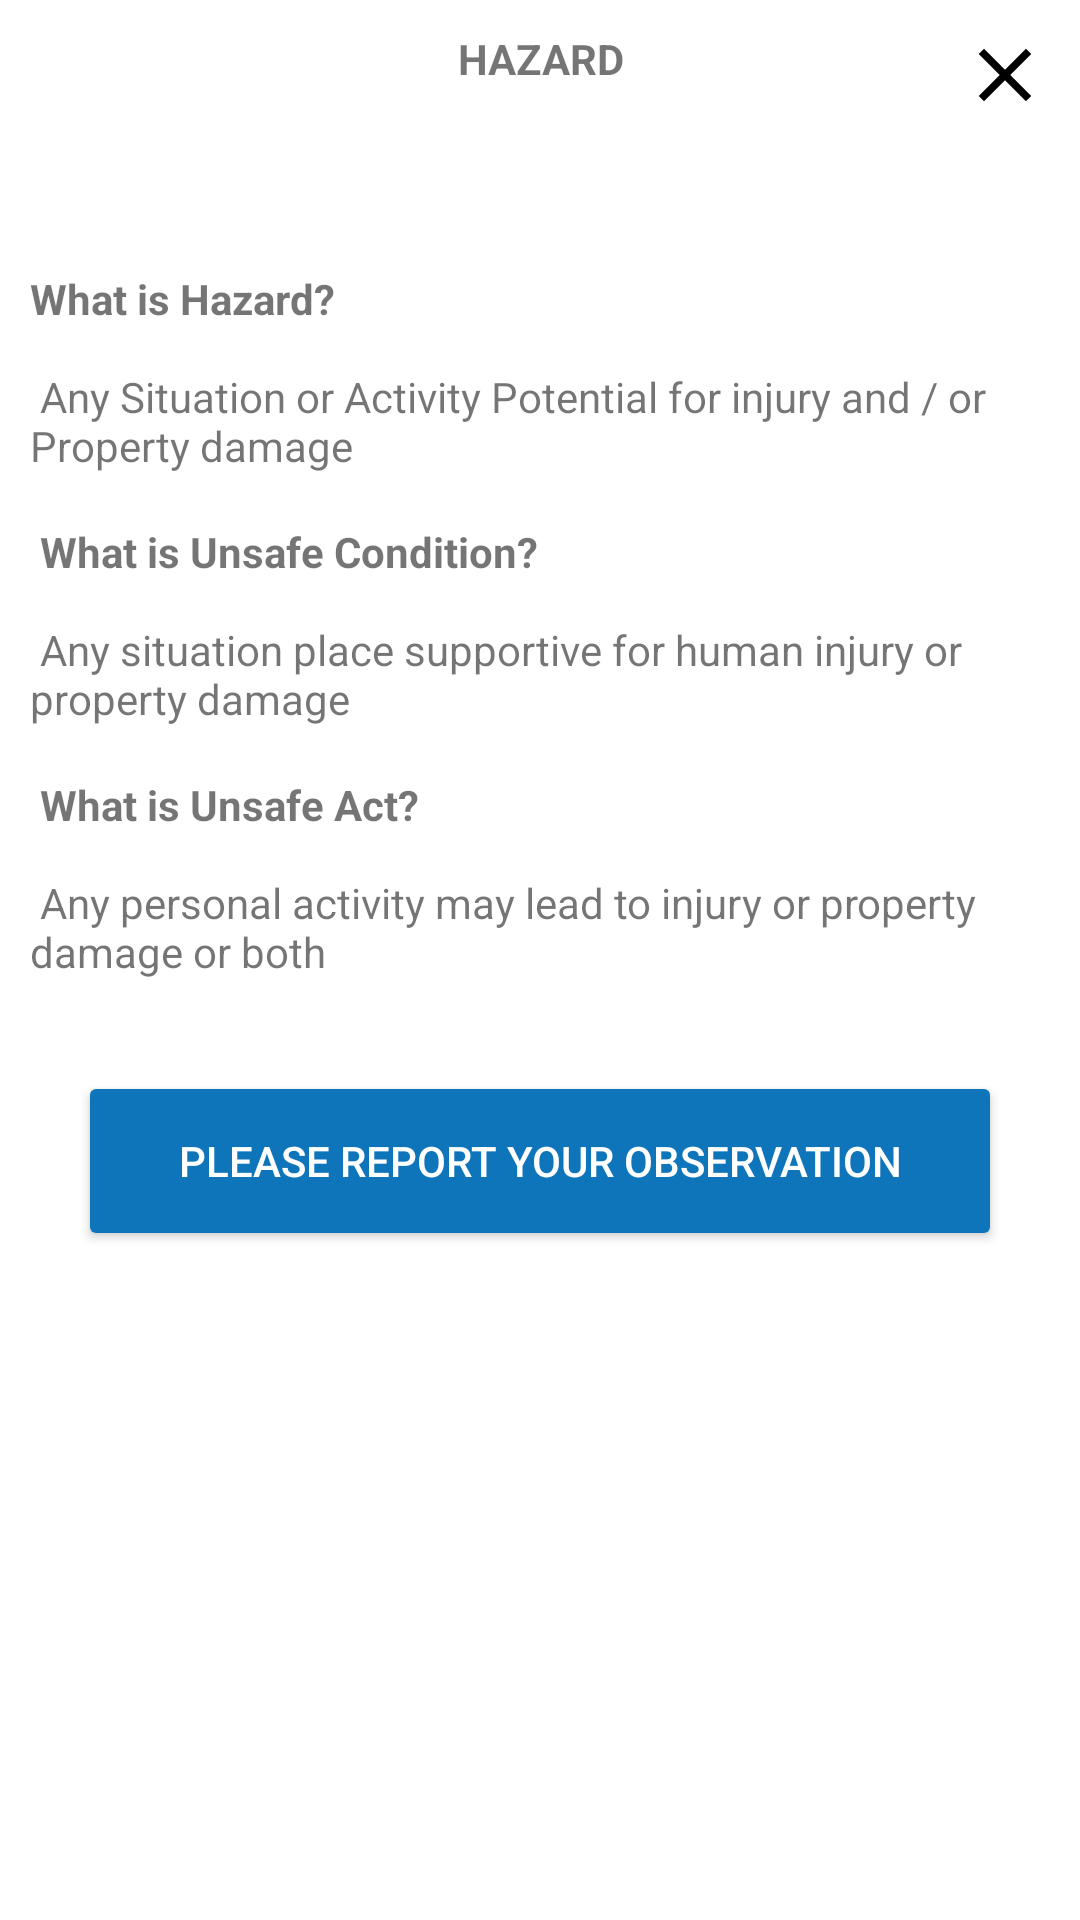

Named icons in this screenshot (1080w x 1920h) and their bounding boxes, (x1, y1, x2, y2):
close: (979, 49, 1031, 101)
